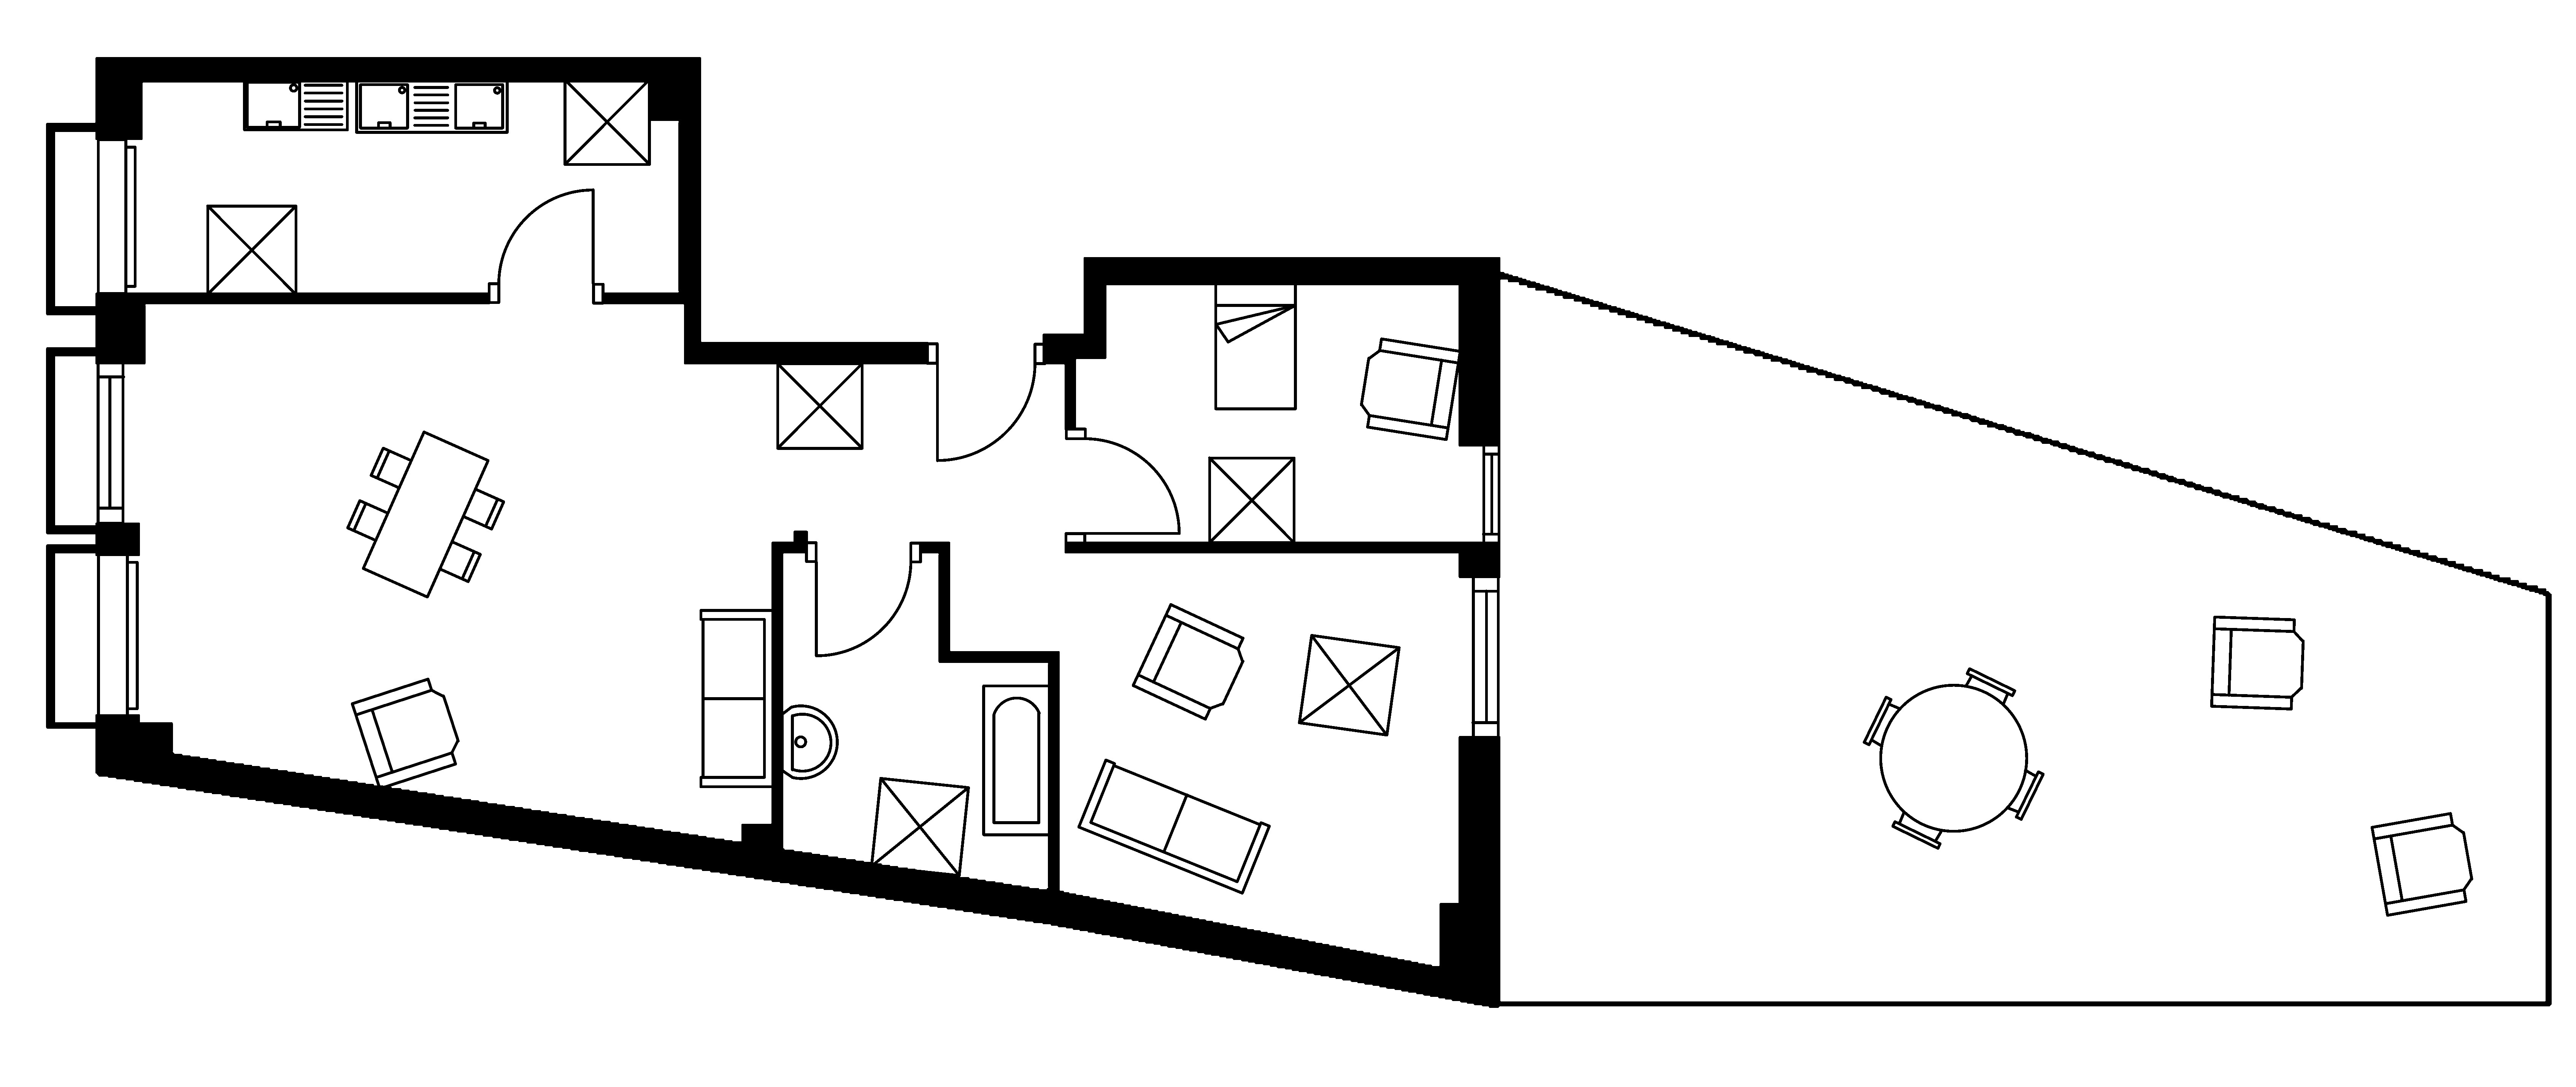armchair: (1130, 602, 1245, 720), (350, 678, 460, 791), (2371, 811, 2474, 918), (1359, 337, 1462, 441), (2210, 615, 2305, 710)
bed: (1214, 281, 1298, 411)
coffee_table: (1296, 633, 1401, 737), (869, 776, 969, 877), (205, 204, 297, 296), (562, 77, 651, 166), (775, 362, 864, 451), (1207, 456, 1296, 544)
dining_table: (345, 429, 506, 599)
large_sofa: (1076, 758, 1272, 895), (698, 608, 774, 788)
round_table: (1861, 666, 2045, 850)
sink: (241, 77, 348, 132)
small_sink: (780, 704, 838, 779)
tub: (981, 684, 1051, 837)
twin_sink: (353, 77, 509, 133)
